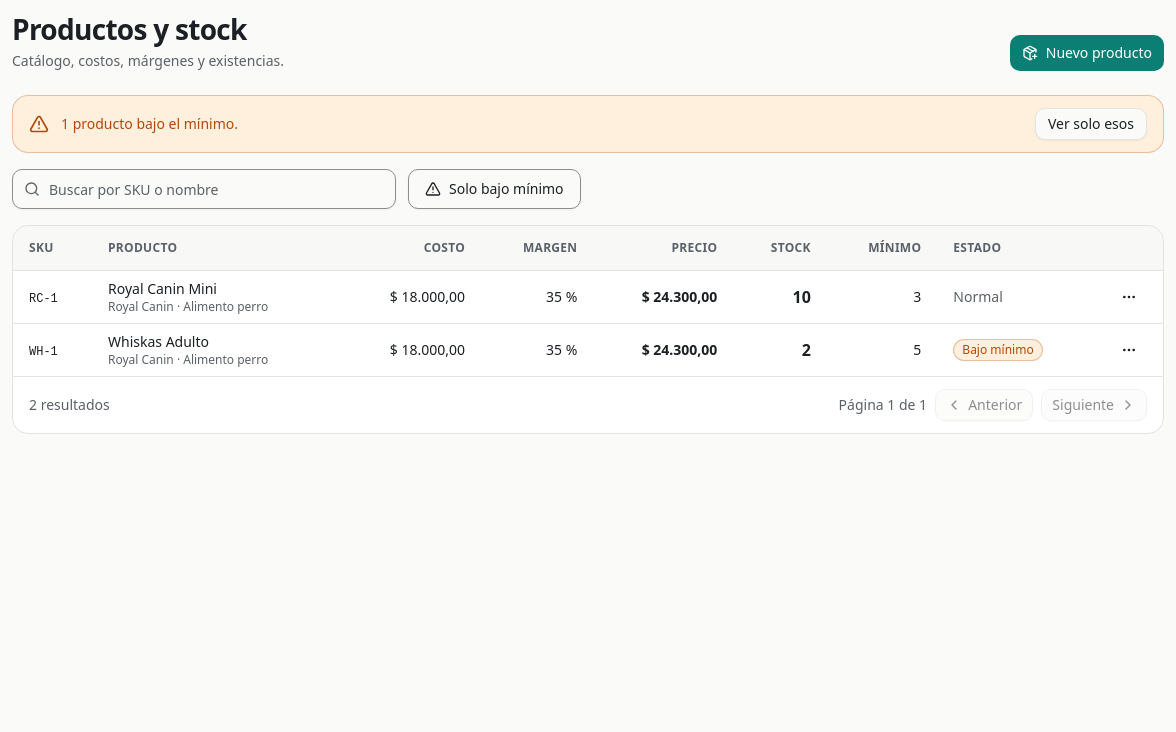
Test case: ProductosPage › la dueña ve costo, margen, precio, stock, mínimo y estado con todas las acciones en la misma fila
Expected: the text "Whiskas Adulto" is shown, [108,332,209,350]
Expected: the column heading "SKU" is shown, [13,226,92,270]
What coordinates should you click on to do the following:
click the button named "Acciones de Whiskas Adulto"
I would click on:
 (1129, 350)
Its box is [1111,332,1147,368].
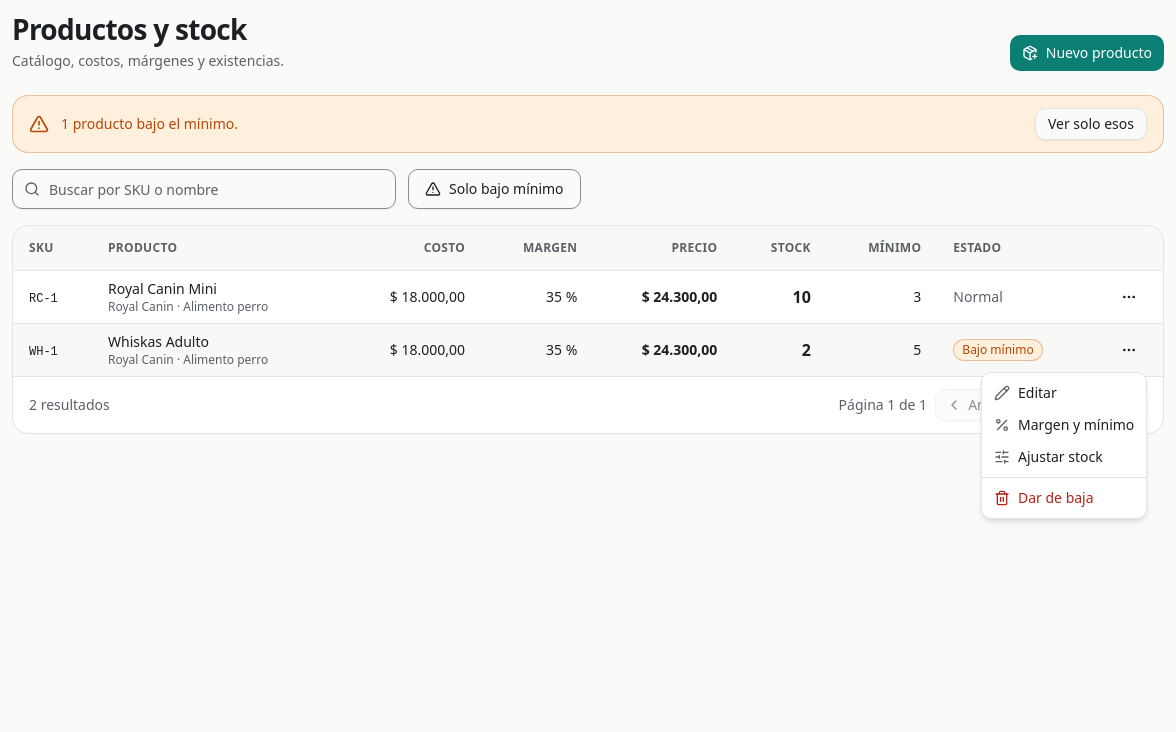
Expected: the menu item "Editar" is shown, [994,383,1057,402]
Expected: the menu item "Margen y mínimo" is shown, [994,415,1134,434]
Expected: the menu item "Ajustar stock" is shown, [994,447,1103,466]
